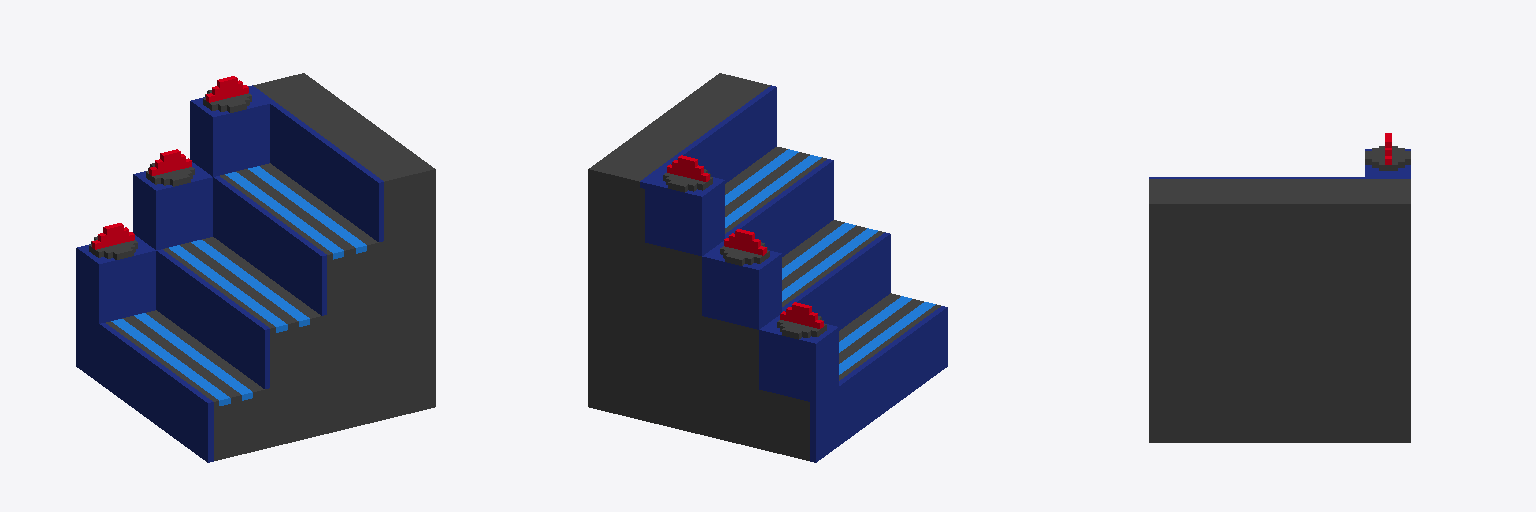
3 renders of one model, left to right at view 1: azimuth 30°, elevation 25°; view 2: azimuth 150°, elevation 25°; view 3: azimuth 270°, elevation 25°, orthographic.
Visible parts, largest first — view 1: stairs_01; view 2: stairs_01; view 3: stairs_01.
Part boxes in pixels (x1,y1,x2,y2): stairs_01: (76, 73, 435, 462); stairs_01: (588, 73, 947, 462); stairs_01: (1149, 133, 1410, 442).
Bounding box in the file's own units: 40 × 44 × 40.
Materials: 1 (1 with a texture image).